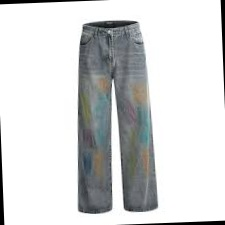earth: (133, 85, 148, 102), (142, 152, 152, 176), (94, 155, 103, 175), (98, 79, 109, 90)
